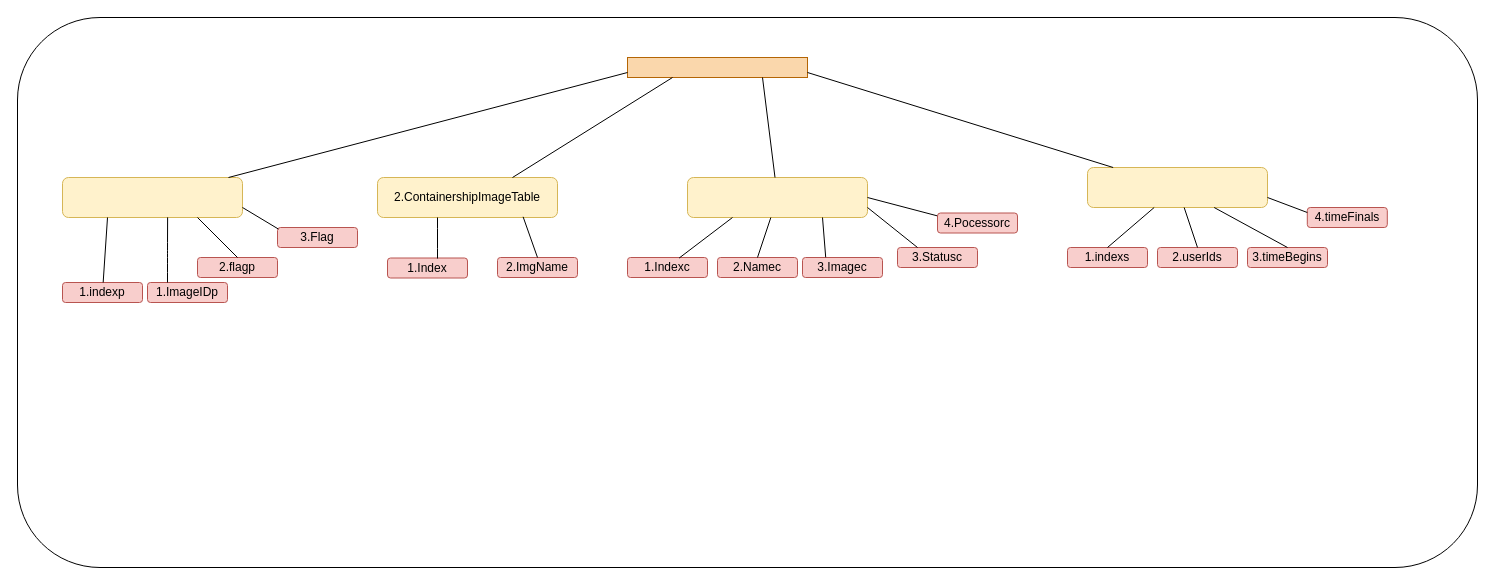
Image size: 1495x585. Some labels were removed from this diagram. Here are the shapes that lost their labels. From the top down, the centre of each, then its label:
At (717,67): "Containership MIB".
At (152,197): "1.ContainershipParamTable".
At (777,197): "3.ContainershipContainerTable".
At (1177,187): "4.ContainershipStatusTable".
